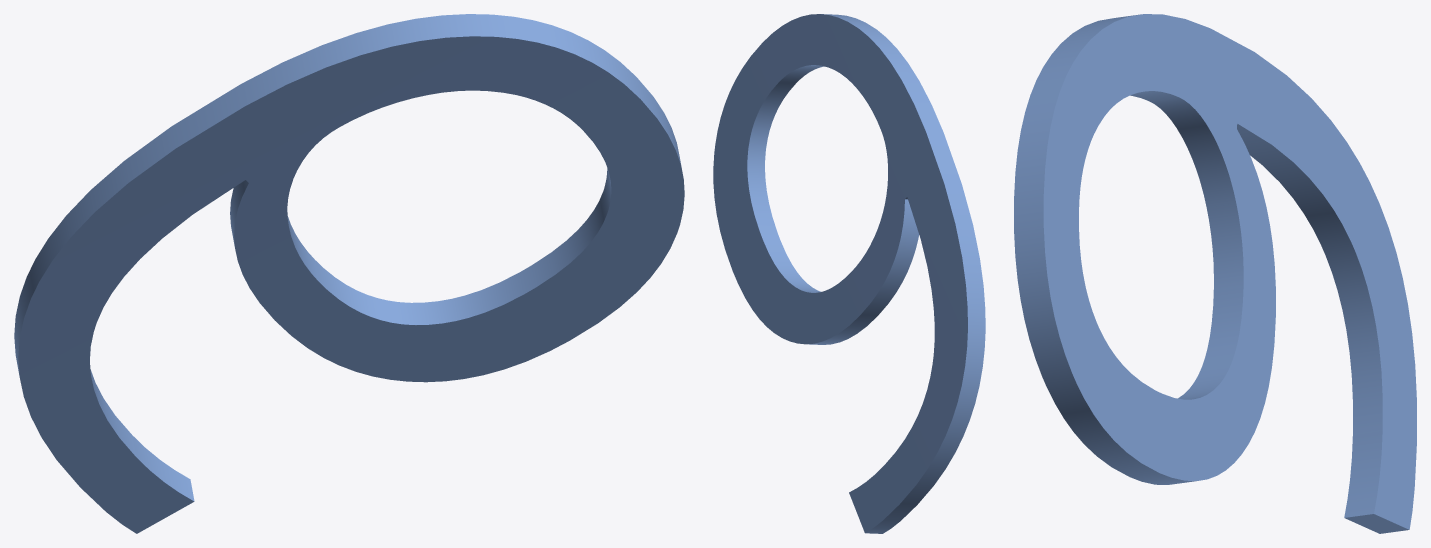
The model's file is New_Number_6.gltf.
3 renders of one model, left to right at view 1: azimuth 30°, elevation 25°; view 2: azimuth 150°, elevation 25°; view 3: azimuth 270°, elevation 25°, orthographic. The views are drawn at different scales.
Visible parts, largest first — view 1: Part 501; view 2: Part 501; view 3: Part 501.
Boxes of the visible parts, box(x1,y1,x2,y2) form: Part 501: box(14, 14, 684, 533); Part 501: box(713, 14, 985, 533); Part 501: box(1014, 14, 1416, 533).
Bounding box in the file's own units: 0.00457 × 0.00489 × 0.00303.
